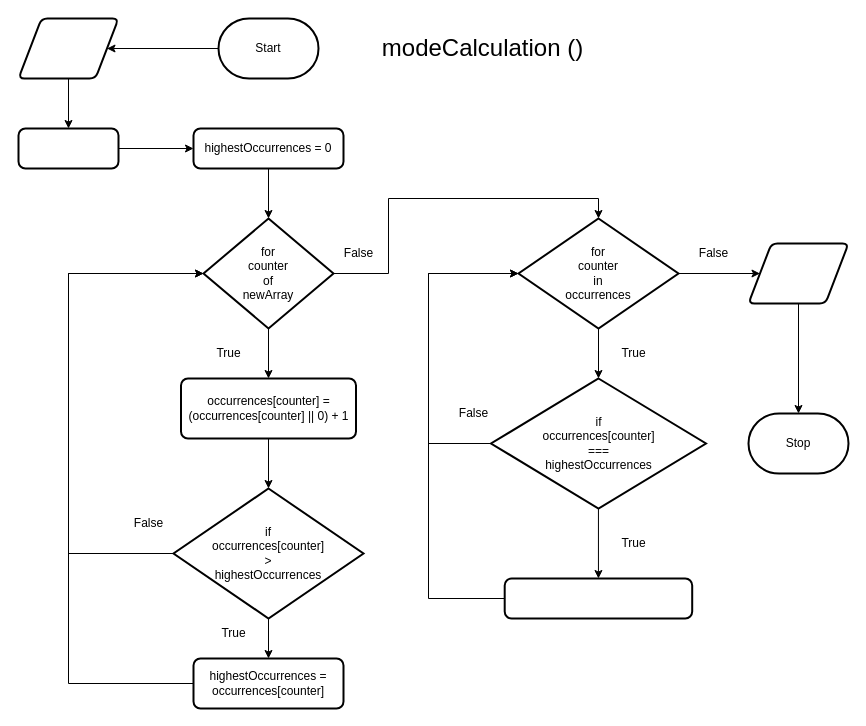
Image size: 866x726. Some labels were removed from this diagram. Here are the shapes that lost their labels. From the top down, the centre of each, then its label:
At [68,48]: "get newArray".
At [68,148]: "occurrences = {}".
At [798,273]: "return modes".
At [598,598]: "modes.push(parseFloat(counter))".
